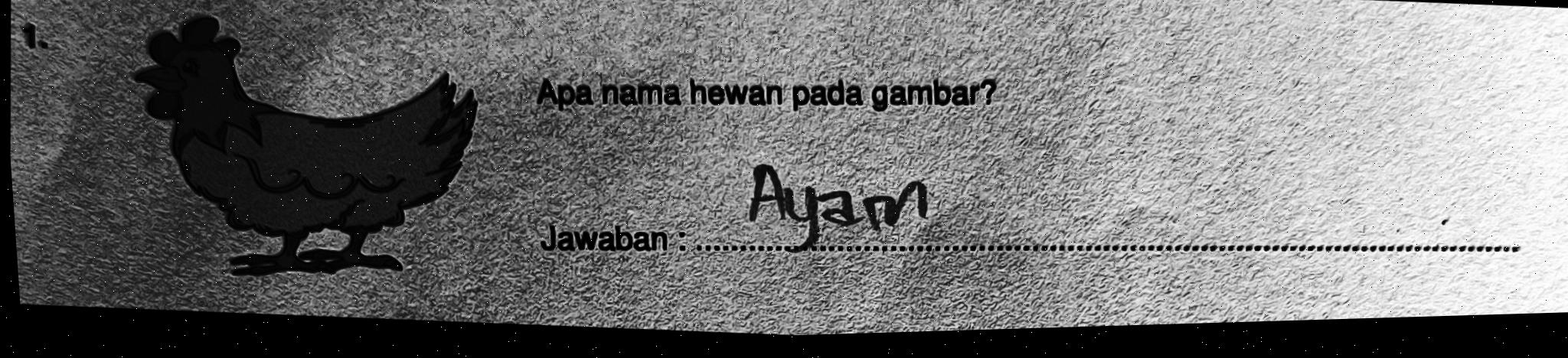jawaban: (738, 153, 941, 245)
